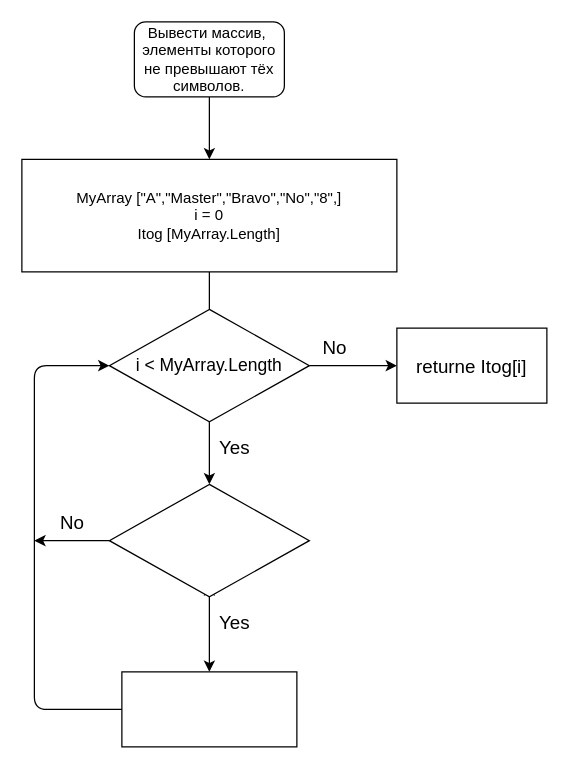
Image size: 569x769. Some labels were removed from this diagram. The centre of each missing label's shape, as x and y in pixels:
Itog [i] = MyArray [i]: (209,709)
MyArray [i] Length<=3: (208,540)
